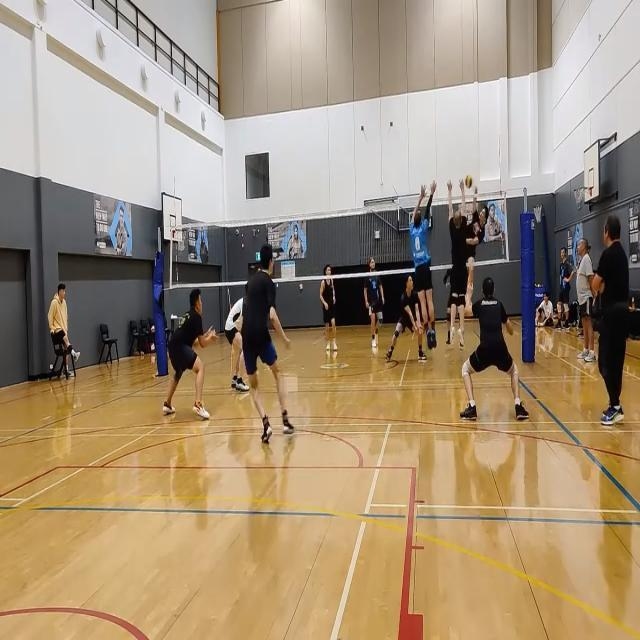volleyball: (464, 175, 472, 188)
